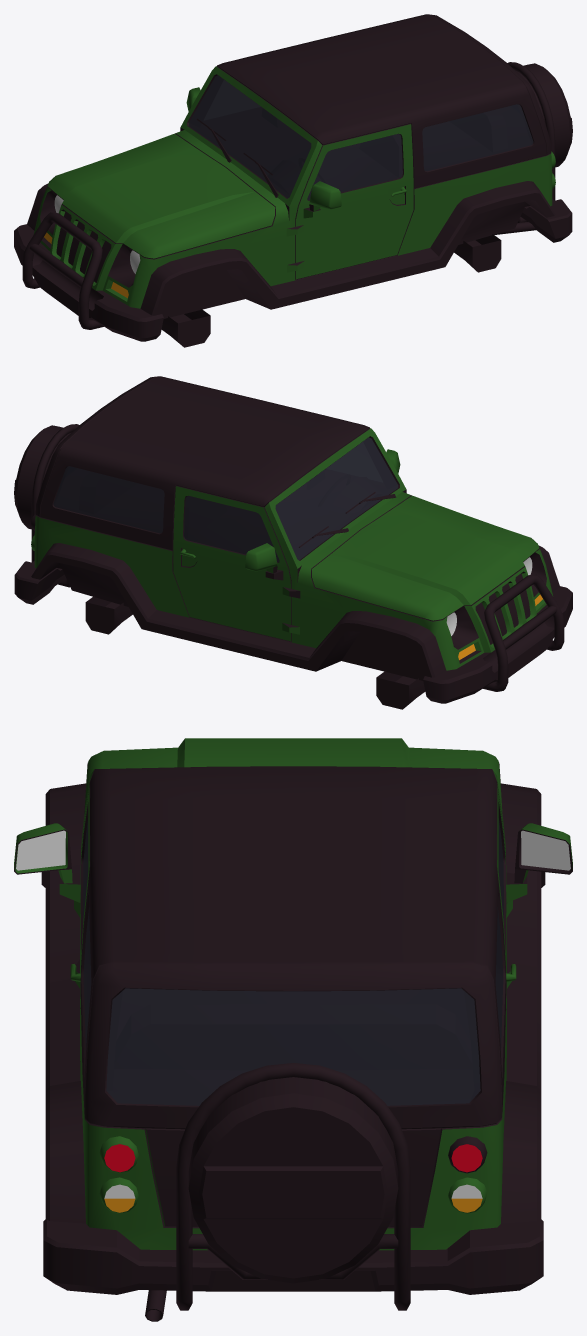
Rendered from car4.fbx.
3 renders of one model, top to bottom at view 1: azimuth 30°, elevation 25°; view 2: azimuth 150°, elevation 25°; view 3: azimuth 270°, elevation 25°, orthographic. The views are drawn at different scales.
Parts seen in each view (by area): view 1: Offroad Body_Body_0, Offroad Body_Glass_0, Offroad Body_Optics_0; view 2: Offroad Body_Body_0, Offroad Body_Glass_0, Offroad Body_Optics_0; view 3: Offroad Body_Body_0, Offroad Body_Glass_0, Offroad Body_Optics_0.
Boxes of the visible parts, left/top/right/bottom form: Offroad Body_Body_0: left=14, top=14, right=572, bottom=347; Offroad Body_Glass_0: left=189, top=75, right=533, bottom=199; Offroad Body_Optics_0: left=44, top=195, right=140, bottom=298; Offroad Body_Body_0: left=14, top=376, right=572, bottom=709; Offroad Body_Glass_0: left=53, top=437, right=397, bottom=561; Offroad Body_Optics_0: left=446, top=557, right=542, bottom=660; Offroad Body_Body_0: left=14, top=738, right=572, bottom=1321; Offroad Body_Glass_0: left=83, top=818, right=503, bottom=1105; Offroad Body_Optics_0: left=104, top=1144, right=482, bottom=1212.
Size of the model in its own units: 3.94 by 1.96 by 1.38.
